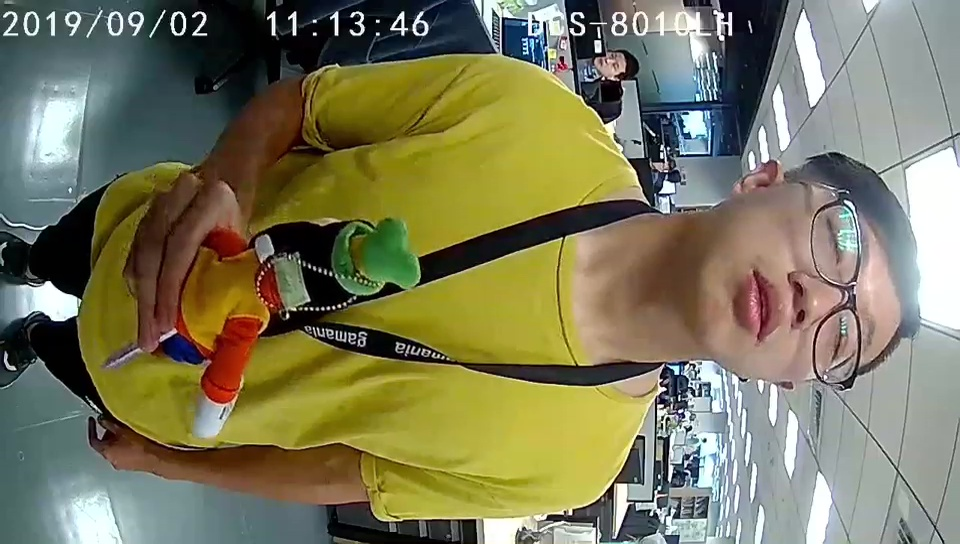goofy: (190, 220, 420, 440)
